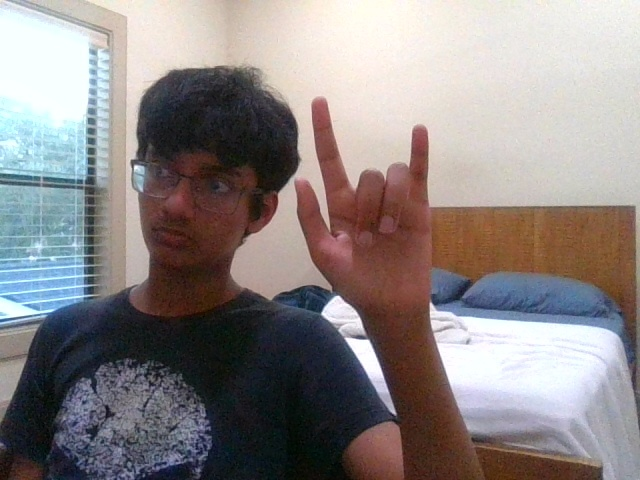ly: (295, 98, 432, 313)
